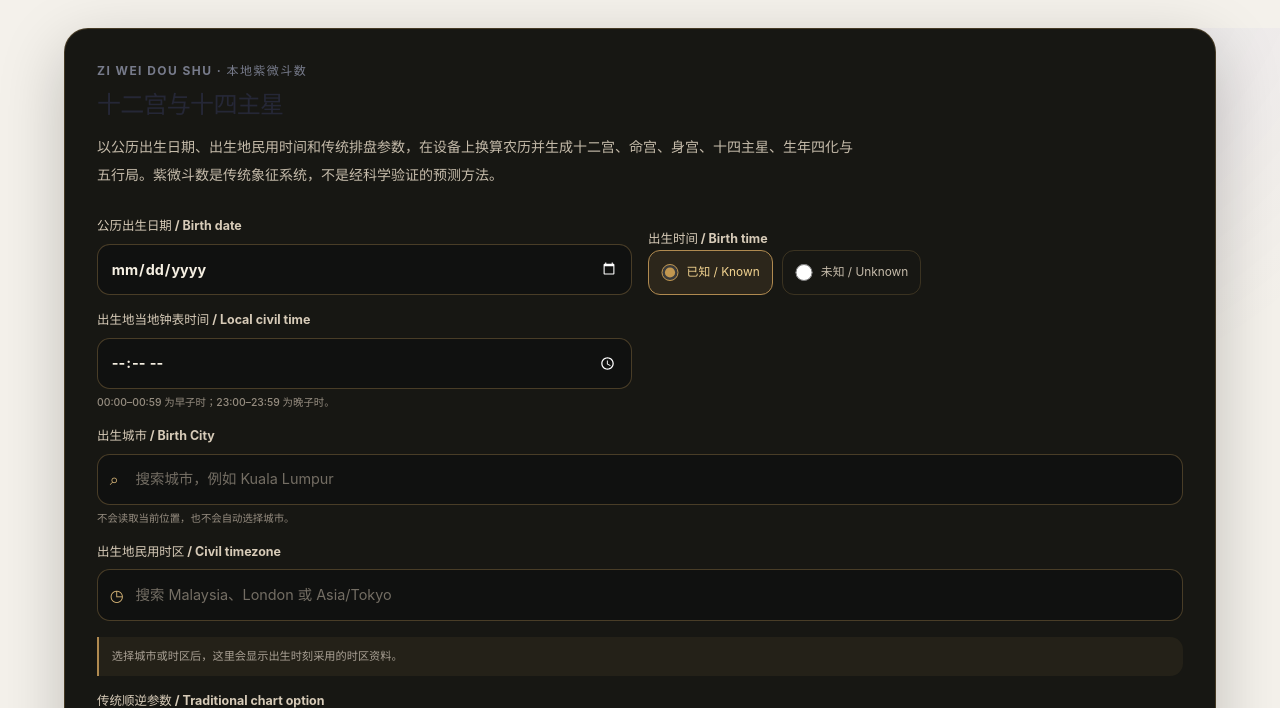
Scenario: local Zi Wei experience › does not fabricate a chart when birth time is unknown
In the date field labelled "公历出生日期 / Birth date": (364, 269) [97,244,632,295], type "1990-06-15"
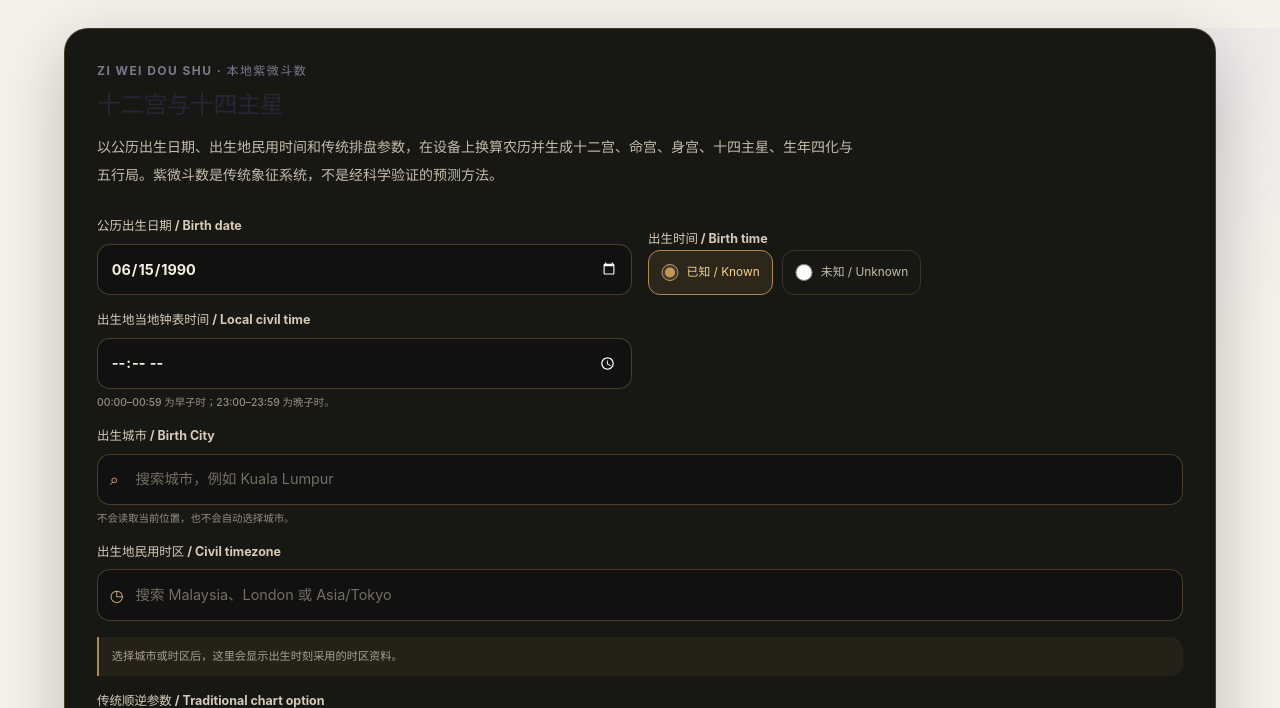
In the dropdown labelled "出生城市 / Birth City": (640, 479) [97,454,1183,505], type "Kuala Lumpur"
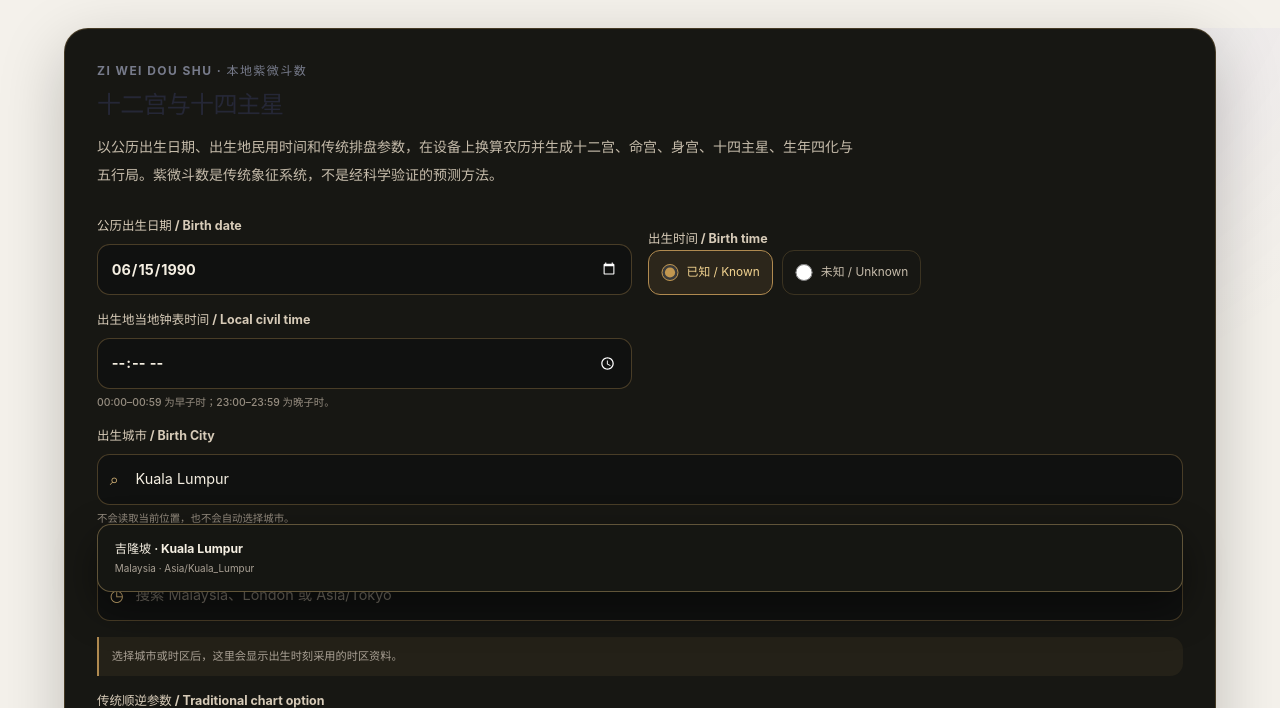
Click the option "吉隆坡 · Kuala Lumpur Malaysia · Asia/Kuala_Lumpur": (133, 548) [104,530,1176,586]
(page scrolled)
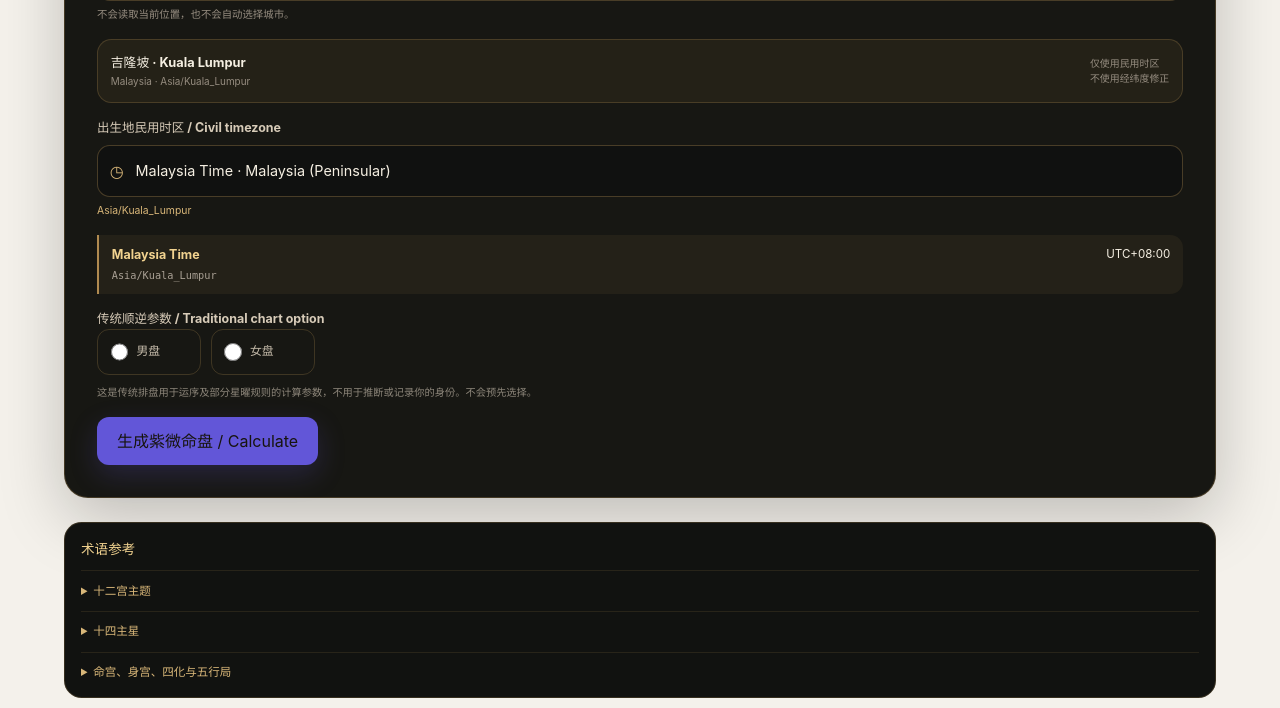
Click the radio button labelled "男盘": (120, 352) [111,343,128,361]
(page scrolled)
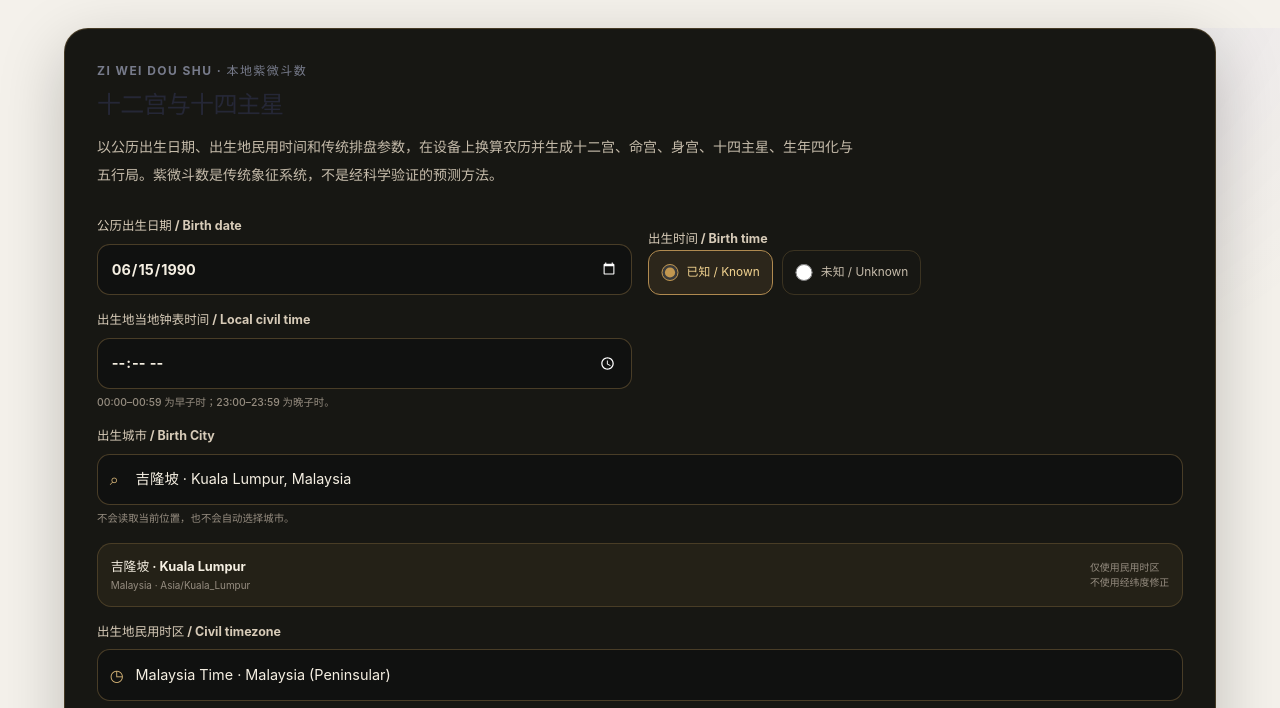
Click the radio button labelled "未知 / Unknown": (804, 272) [795,264,813,281]
(page scrolled)
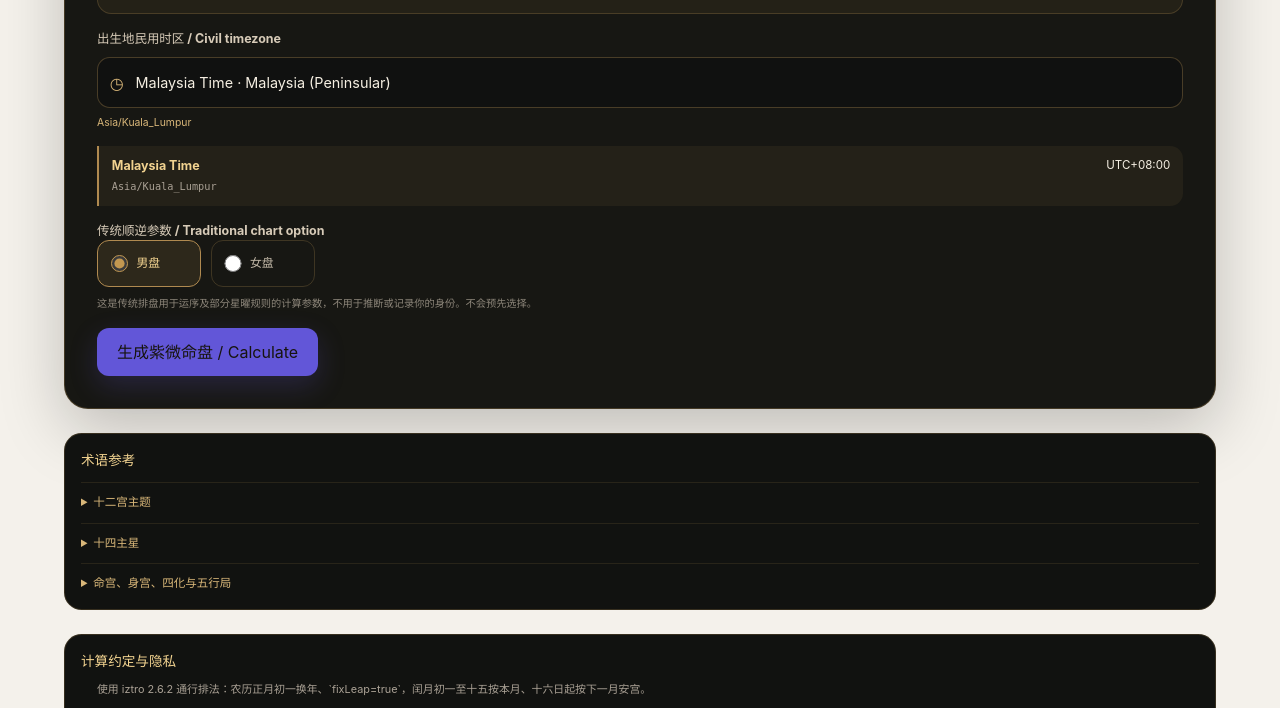
Expected: the text labelled "Local civil time" is gone
Click the button "生成紫微命盘 / Calculate": (208, 352) [97,328,318,376]
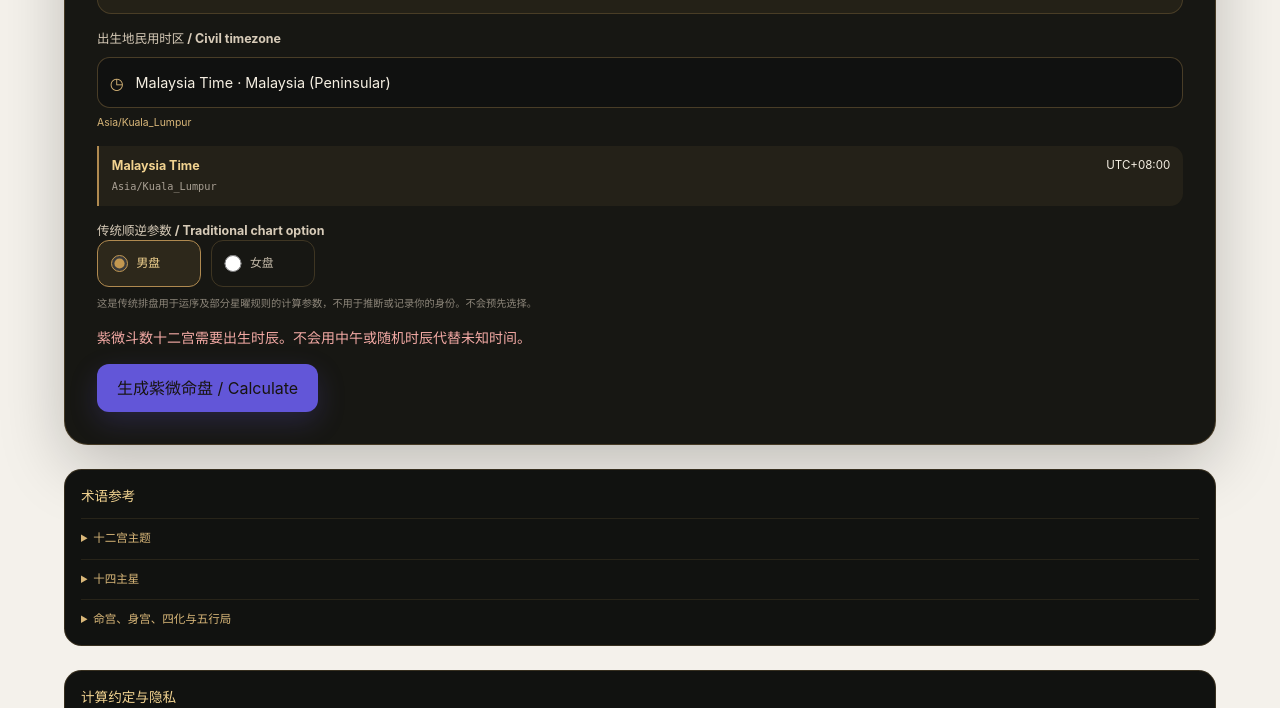
Expected: the heading "术语参考" is shown, [81,488,135,504]
Expected: the message shows "需要出生时辰", [97,329,531,346]
